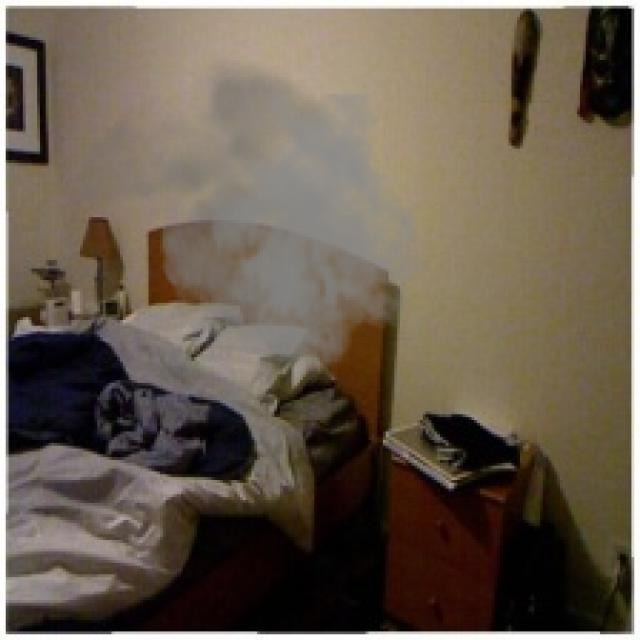smoke: (66, 52, 428, 394)
